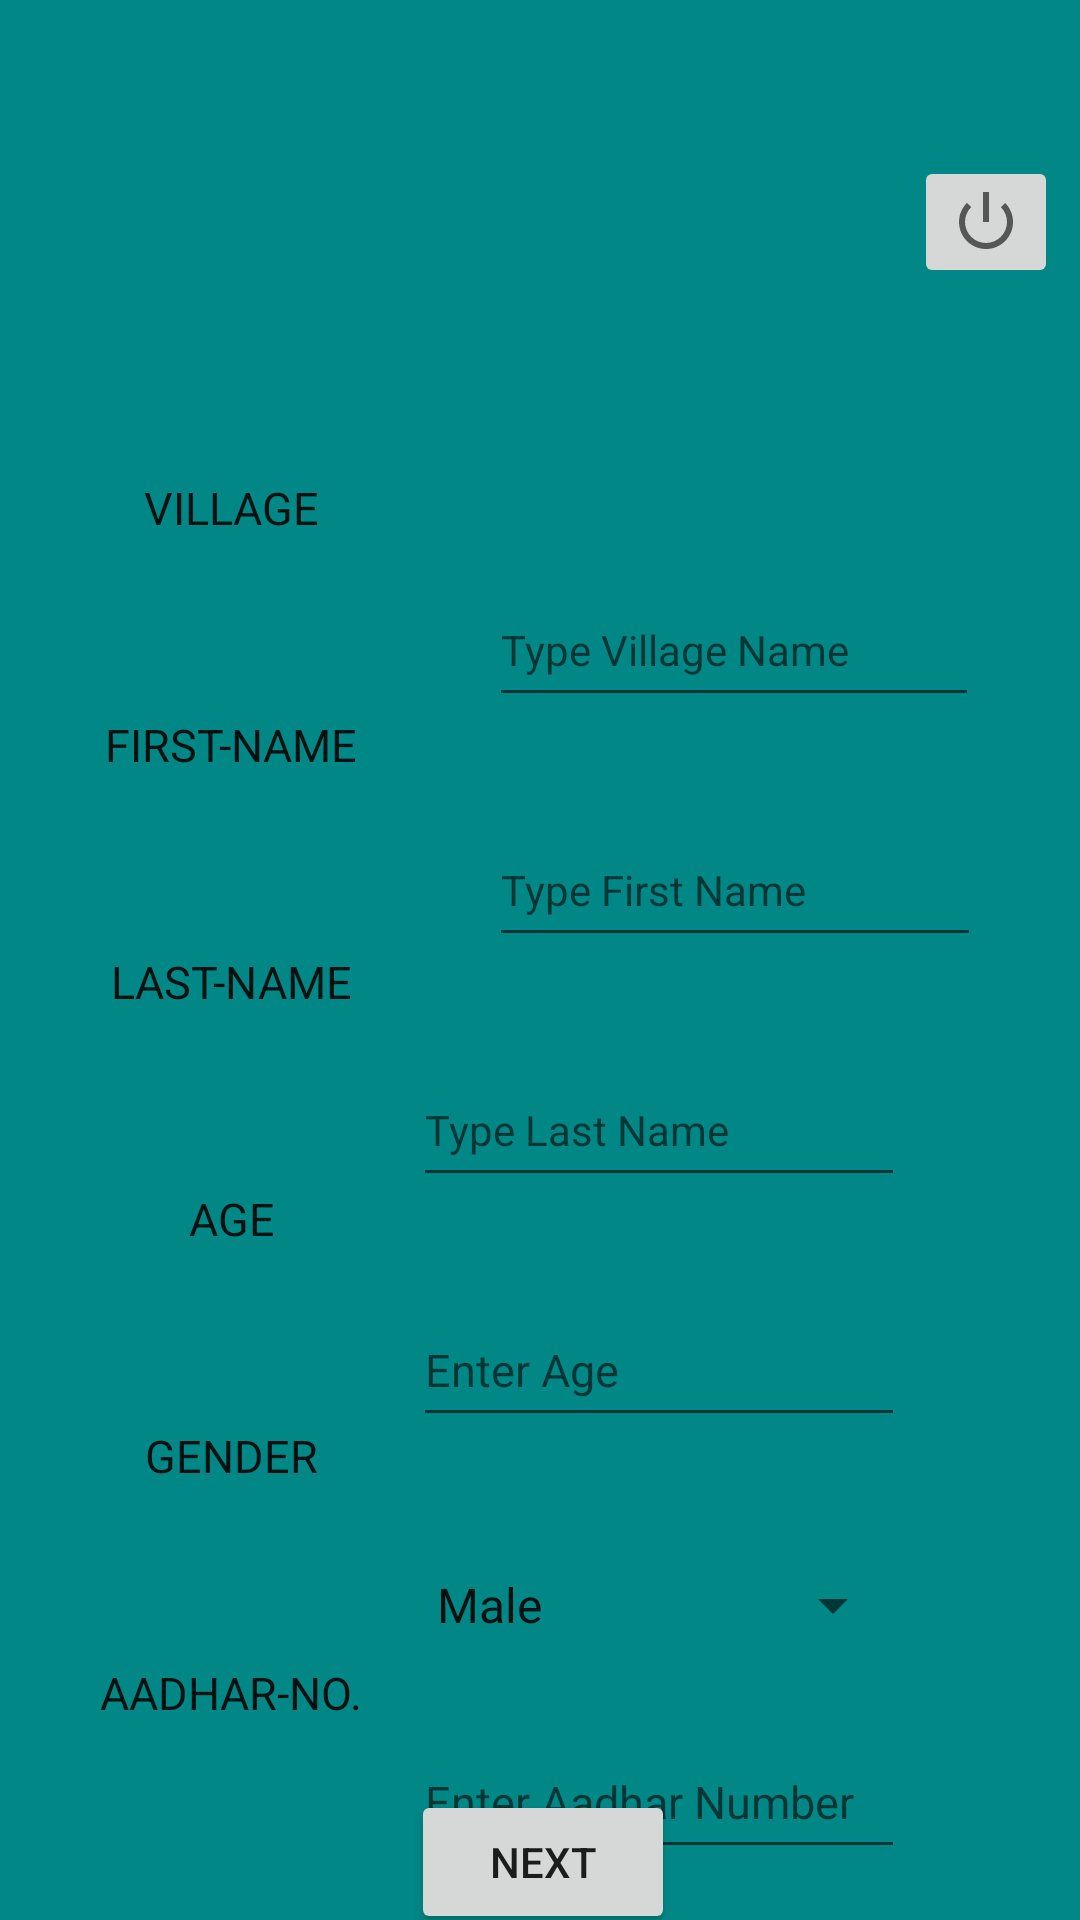

Named icons in this screenshot (1080 x 1920) and their bounding boxes, (x1, y1, x2, y2):
lock power off: (926, 174, 1046, 270)
